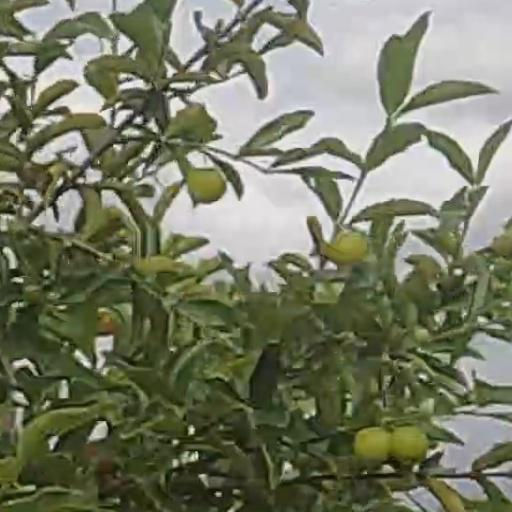acerola_verde: (354, 426, 391, 464), (392, 428, 427, 463), (188, 170, 224, 201), (329, 234, 366, 262)
